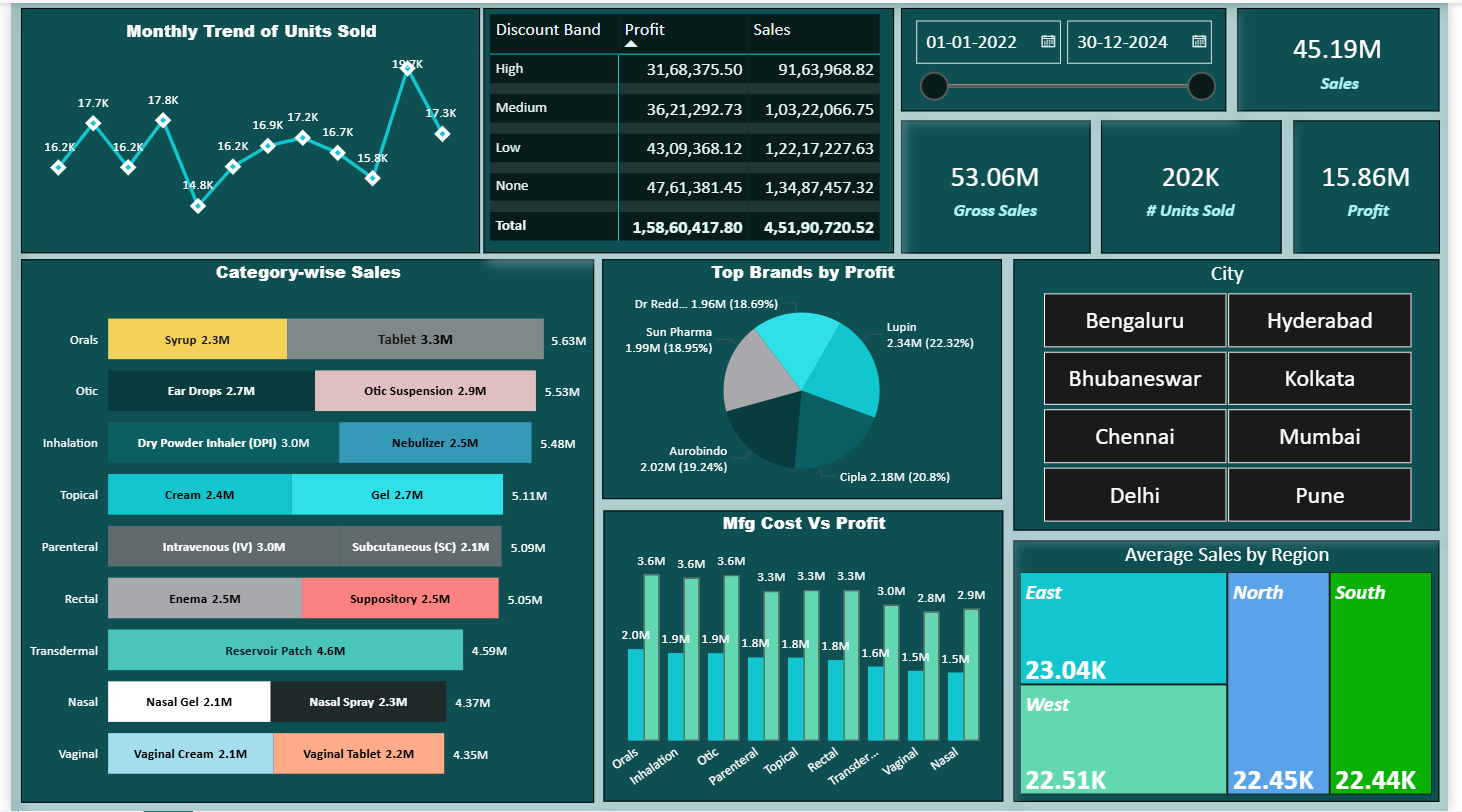

Layout of this report page (visuals, bound fields, positions):
{"tool":"powerbi","page":{"name":"Dashboard","canvas":[1280,720],"ordinal":0},"visuals":[{"type":"card","fields":{"Values":["Sum(Pharmacy_Sales.Sales)"]},"box":[1091.8,4.8,179.8,91.7],"z":0},{"type":"card","fields":{"Values":["Sum(Pharmacy_Sales.Profit)"]},"box":[1141.9,104.7,130.2,118.6],"z":1000},{"type":"card","fields":{"Values":["Sum(Pharmacy_Sales.Gross_Sales)"]},"box":[793,104.7,168.6,118.6],"z":2000},{"type":"card","fields":{"Values":["Sum(Pharmacy_Sales.Units_Sold)"]},"box":[970.9,104.7,160.5,118.6],"z":3000},{"type":"lineChart","title":"Monthly Trend of Units Sold","fields":{"Y":["Sum(Pharmacy_Sales.Units_Sold)"],"Category":["Pharmacy_Sales.Date.Variation.Date Hierarchy.Month"]},"box":[8.4,4.8,409,218.4],"z":5000},{"type":"treemap","title":"Average Sales by Region","fields":{"Group":["Pharmacy_Sales.Region"],"Values":["Avg(Pharmacy_Sales.Sales)"]},"box":[893,479.1,379.1,232.6],"z":6000},{"type":"barChart","title":"Category-wise Sales","fields":{"Category":["Pharmacy_Sales.Category"],"Series":["Pharmacy_Sales.Sub_Category"],"Y":["Sum(Pharmacy_Sales.Sales)"]},"box":[8.4,228,510.3,483.8],"z":7000},{"type":"pivotTable","title":"Discount Band Impact","fields":{"Rows":["Pharmacy_Sales.Discount_Band"],"Values":["Sum(Pharmacy_Sales.Profit)","Sum(Pharmacy_Sales.Sales)"]},"box":[421,4.8,365.6,218.4],"z":8000},{"type":"pieChart","title":"Top Brands by Profit","fields":{"Category":["Pharmacy_Sales.Brand"],"Y":["Sum(Pharmacy_Sales.Profit)"]},"box":[526.7,227.9,355.8,214],"z":9000},{"type":"clusteredColumnChart","title":"Mfg Cost Vs Profit","fields":{"Category":["Pharmacy_Sales.Category"],"Y":["Sum(Pharmacy_Sales.Profit)","Sum(Pharmacy_Sales.Manufacturing_Cost)"]},"box":[527.2,452.4,355.9,259.4],"z":10000},{"type":"slicer","title":"City","fields":{"Values":["Pharmacy_Sales.City"]},"box":[893,227.9,379.1,241.9],"z":12000},{"type":"slicer","fields":{"Values":["Pharmacy_Sales.Date"]},"box":[792.6,4.8,289.5,91.7],"z":16000}]}

Visuals, with their boxes in screenshot pixels (x1, y1, x2, y2), scaled from the page's 1280x720 canvas onto the 1462x812 screenshot:
card - Sum(Pharmacy_Sales.Sales): bbox=(1247, 5, 1452, 109)
card - Sum(Pharmacy_Sales.Profit): bbox=(1304, 118, 1453, 252)
card - Sum(Pharmacy_Sales.Gross_Sales): bbox=(906, 118, 1098, 252)
card - Sum(Pharmacy_Sales.Units_Sold): bbox=(1109, 118, 1292, 252)
"Monthly Trend of Units Sold" lineChart: bbox=(10, 5, 477, 252)
"Average Sales by Region" treemap: bbox=(1020, 540, 1453, 803)
"Category-wise Sales" barChart: bbox=(10, 257, 592, 803)
"Discount Band Impact" pivotTable: bbox=(481, 5, 898, 252)
"Top Brands by Profit" pieChart: bbox=(602, 257, 1008, 498)
"Mfg Cost Vs Profit" clusteredColumnChart: bbox=(602, 510, 1009, 803)
"City" slicer: bbox=(1020, 257, 1453, 530)
slicer - Pharmacy_Sales.Date: bbox=(905, 5, 1236, 109)
